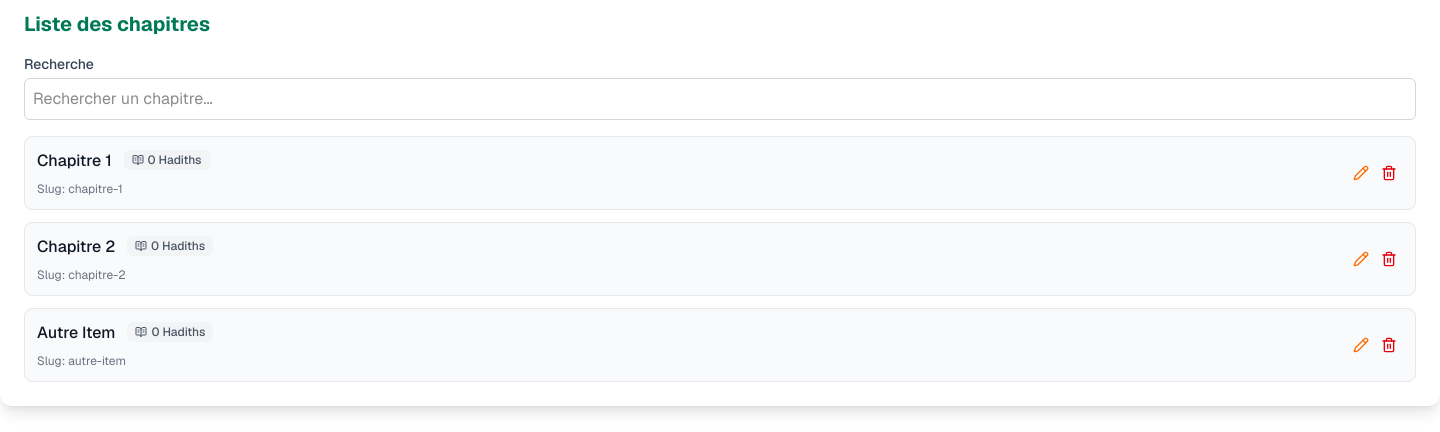
FilteredCardsEdit › filters items based on search input (name)
Type "Chapitre" into the field with placeholder "Rechercher un chapitre..." at (720, 99), box top-left (24, 78), bottom-right (1416, 120)
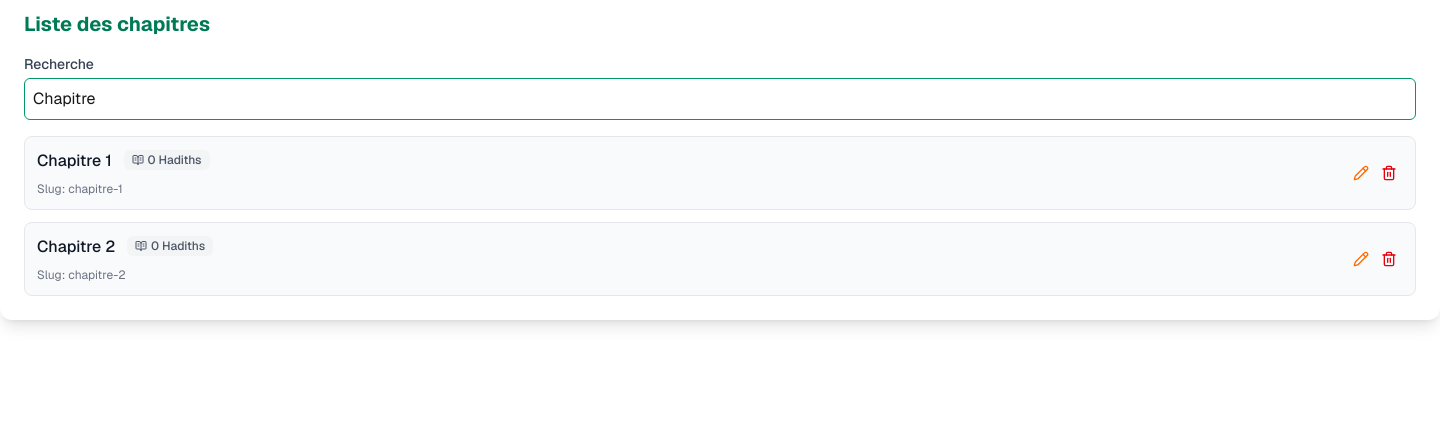
Expected: the text "Chapitre 1" is shown, top-left (37, 150), bottom-right (112, 171)
Result: the text "Autre Item" is gone
